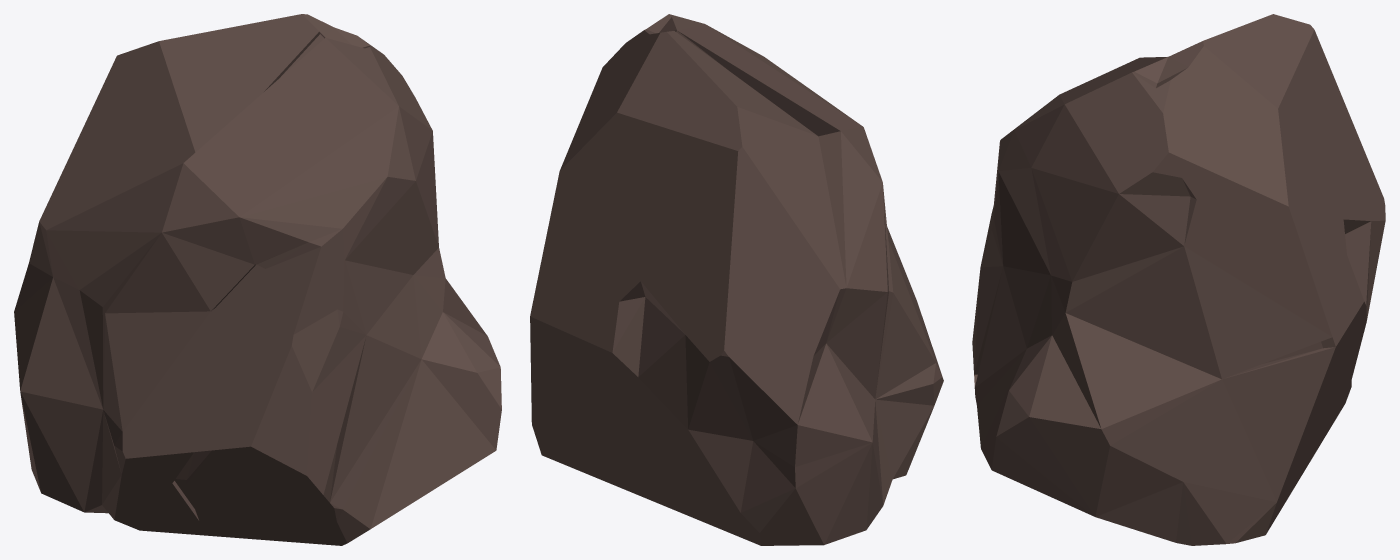
The model's file is Rock 2.fbx.
3 views of the same model, side by side, from view 1: azimuth 30°, elevation 25°; view 2: azimuth 150°, elevation 25°; view 3: azimuth 270°, elevation 25° (orthographic). The views are drawn at different scales.
Parts seen in each view (by area): view 1: Cliff shard 2; view 2: Cliff shard 2; view 3: Cliff shard 2.
Boxes of the visible parts, x1,y1,x2,y2 form: Cliff shard 2: [14, 14, 501, 545]; Cliff shard 2: [530, 14, 943, 545]; Cliff shard 2: [972, 14, 1385, 545].
Bounding box in the file's own units: 1.01 × 1.12 × 0.9353.
